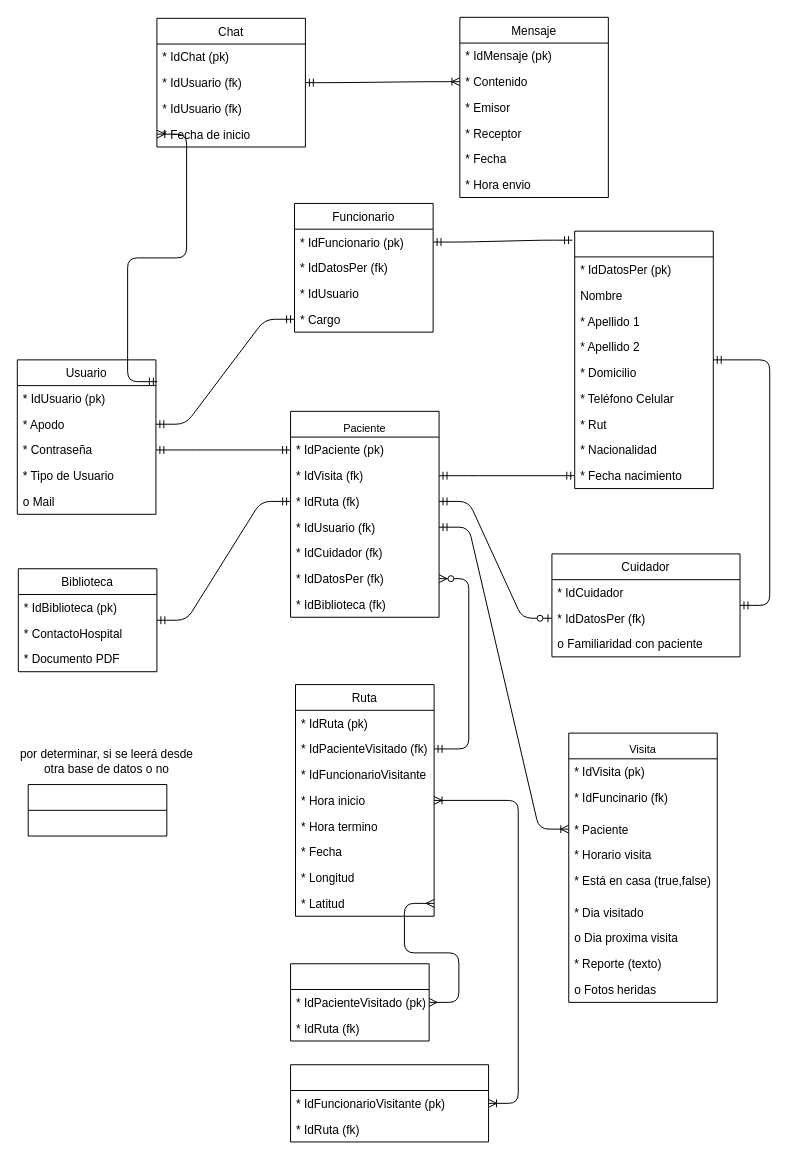
Image size: 796x1162. Some labels were removed from this diagram. Here are the shapes that lost their labels. From the top down, the box of each, then its label:
(574, 230, 713, 489): Datos personales
(27, 784, 167, 836): Ficha Paciente
(290, 963, 429, 1041): Pacientes visitados
(290, 1064, 489, 1142): Funcionarios Visitantes
